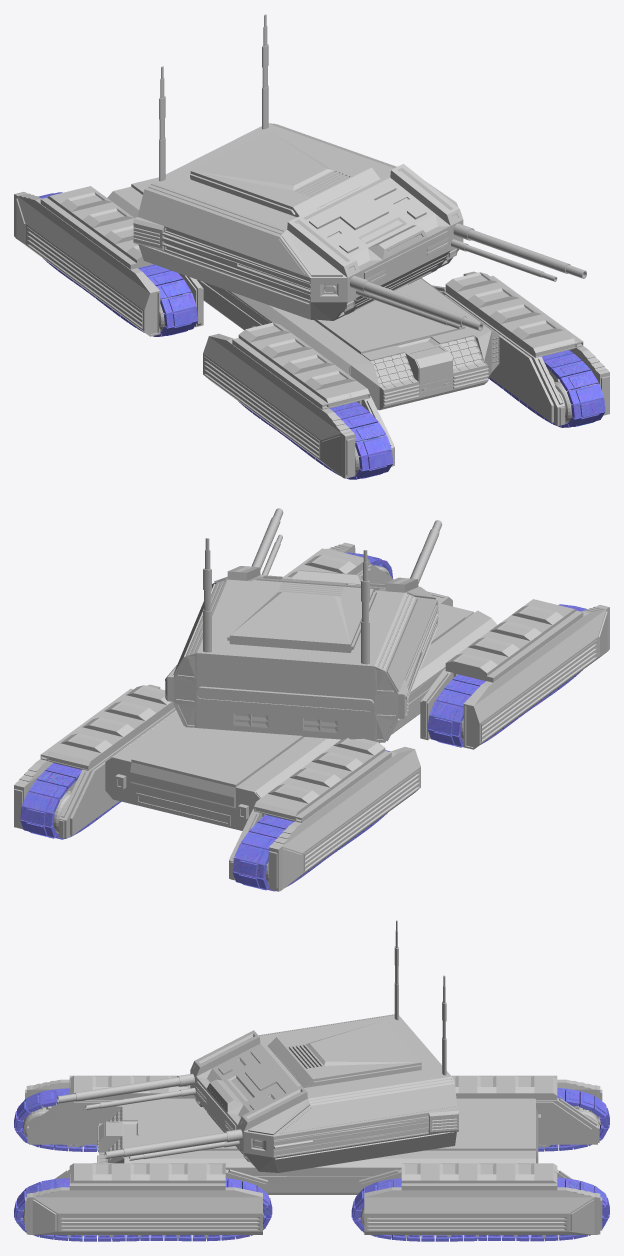
The model's file is tankren.fbx.
3 views of the same model, one above another, from view 1: azimuth 30°, elevation 25°; view 2: azimuth 150°, elevation 25°; view 3: azimuth 270°, elevation 25° (orthographic). The views are drawn at different scales.
Parts seen in each view (by area): view 1: 円柱.001_円柱.003; view 2: 円柱.001_円柱.003; view 3: 円柱.001_円柱.003.
Boxes of the visible parts, x1,y1,x2,y2 form: 円柱.001_円柱.003: (14,14,609,479); 円柱.001_円柱.003: (14,508,609,891); 円柱.001_円柱.003: (14,920,609,1241).
Size of the model in its own units: 272 by 550 by 231.
